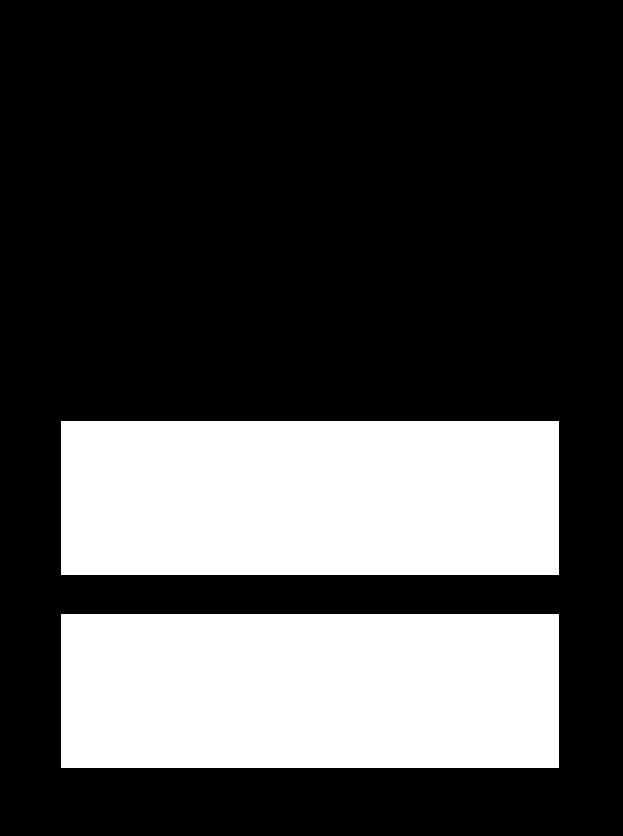table: (61, 421, 558, 574), (61, 614, 558, 767)
